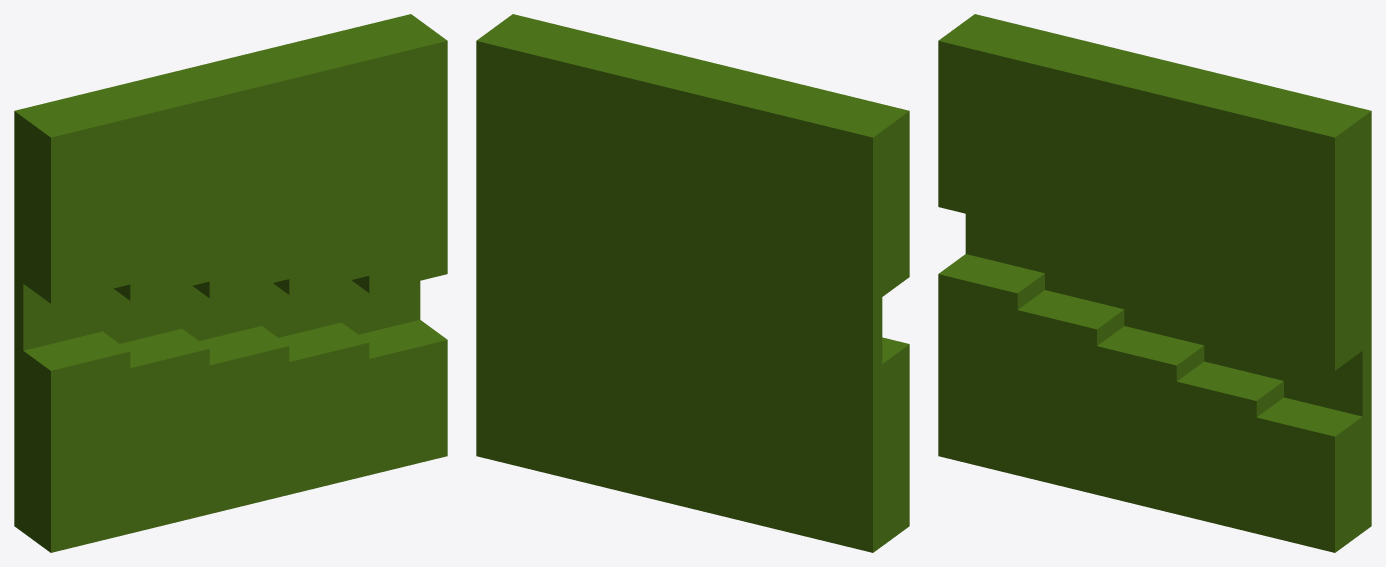
File: floor.fbx
3 renders of one model, left to right at view 1: azimuth 30°, elevation 25°; view 2: azimuth 150°, elevation 25°; view 3: azimuth 330°, elevation 25°, orthographic.
Visible parts, largest first — view 1: sol; view 2: sol; view 3: sol.
Boxes of the visible parts, x1=… form: sol: x1=14, y1=14, x2=447, y2=552; sol: x1=476, y1=14, x2=909, y2=552; sol: x1=938, y1=14, x2=1371, y2=552.
Bounding box in the file's own units: 25 × 25 × 4.
